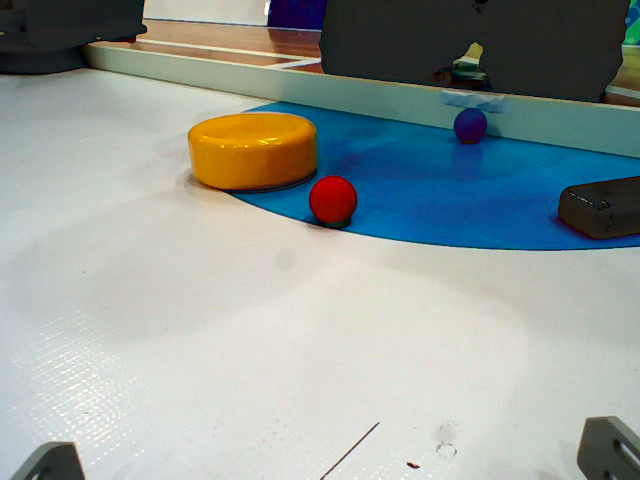black: (558, 172, 640, 235)
blue: (452, 105, 488, 142)
red: (311, 176, 359, 225)
yellow: (185, 113, 316, 186)
